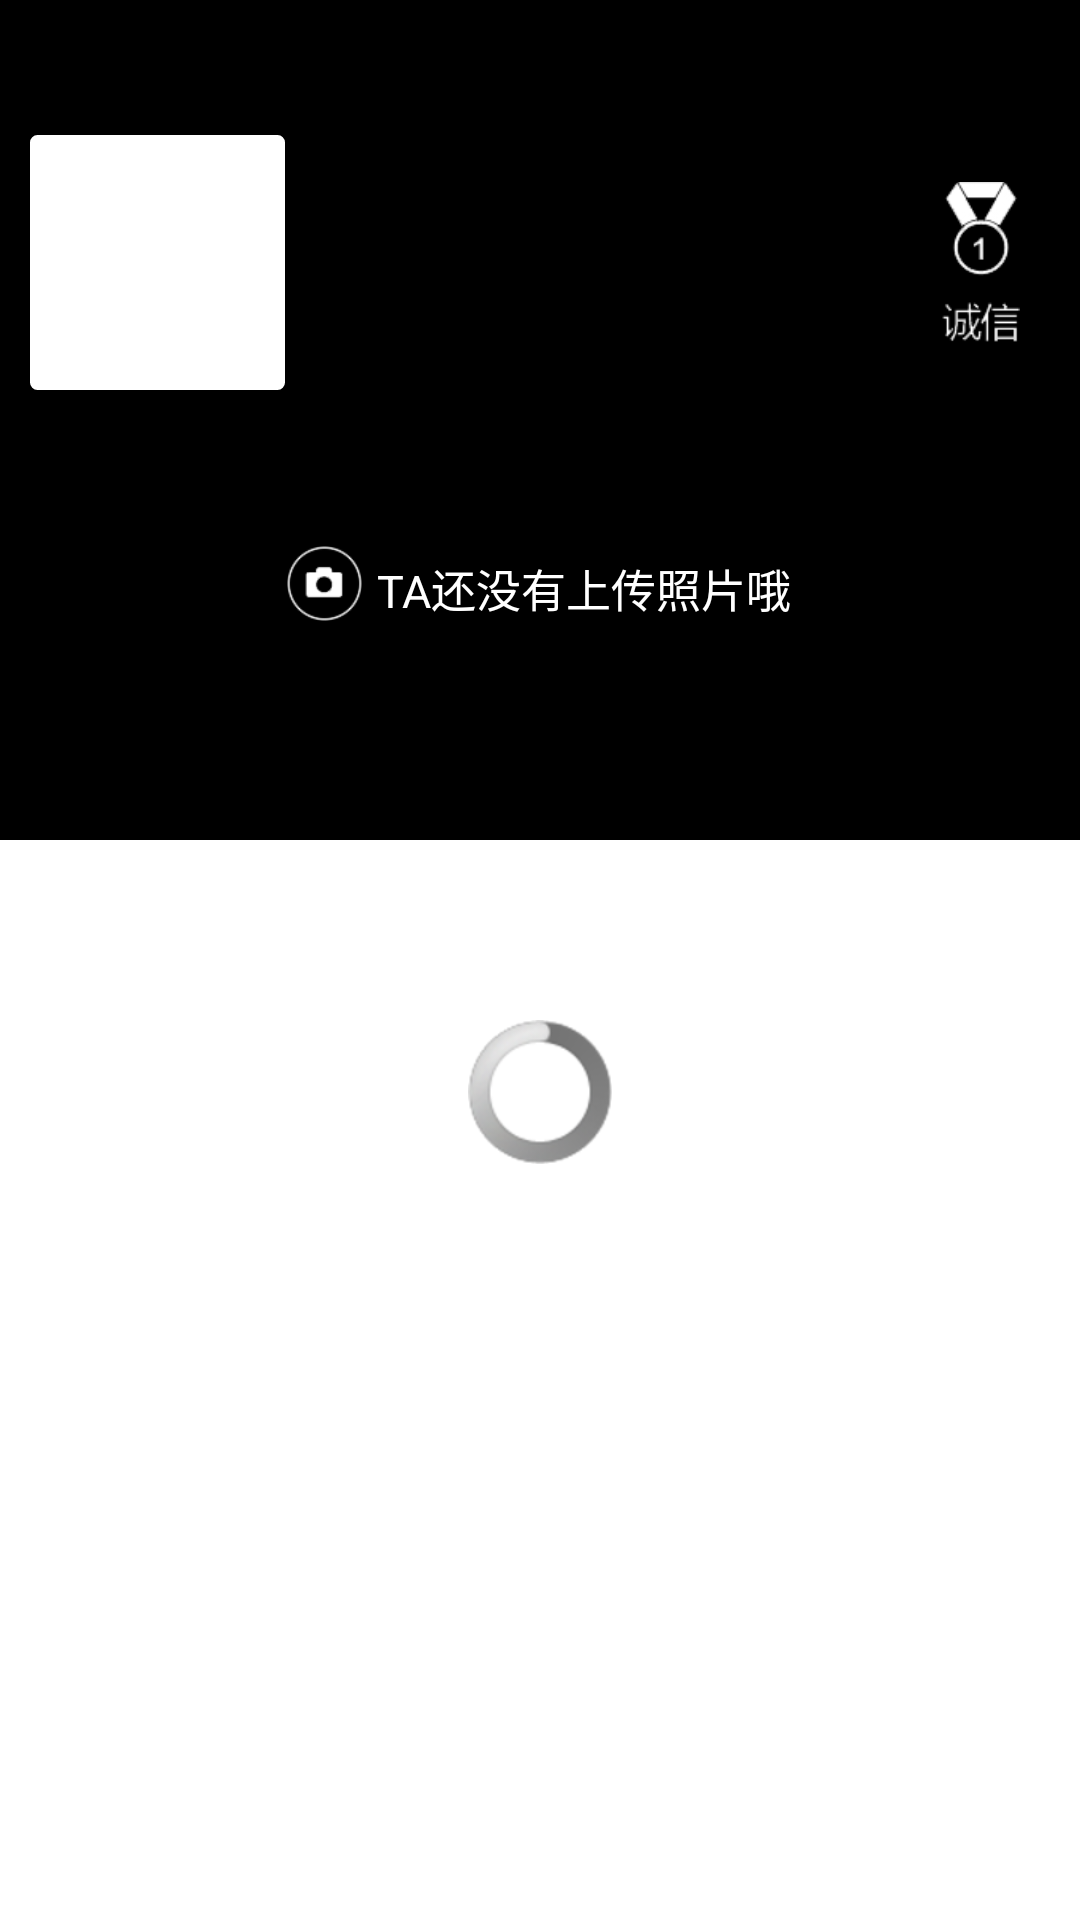

Point at icon controls on the screen. Image size 1080 × 1920, points as (x,y).
pic camera: (324,583)
